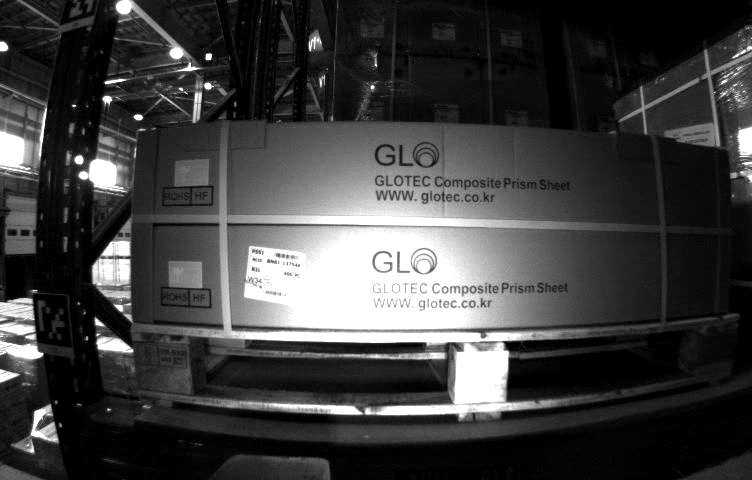True Barcode: (245, 244, 307, 305)
